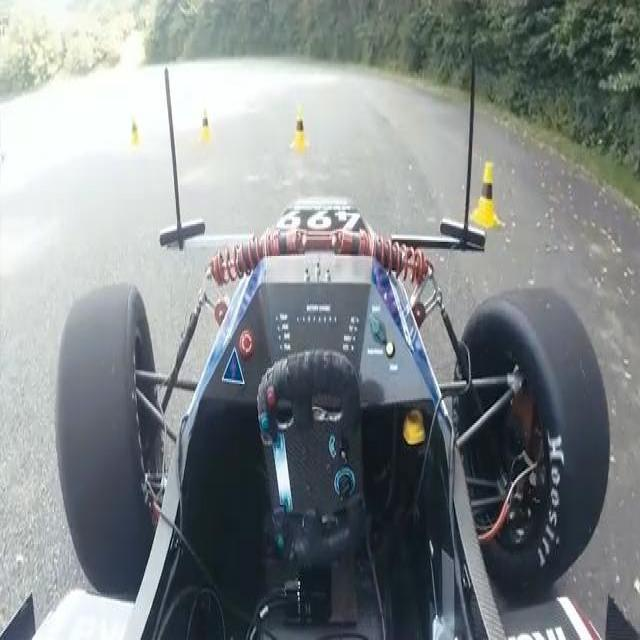yellow_cone: (470, 162, 501, 229), (292, 106, 309, 154)
